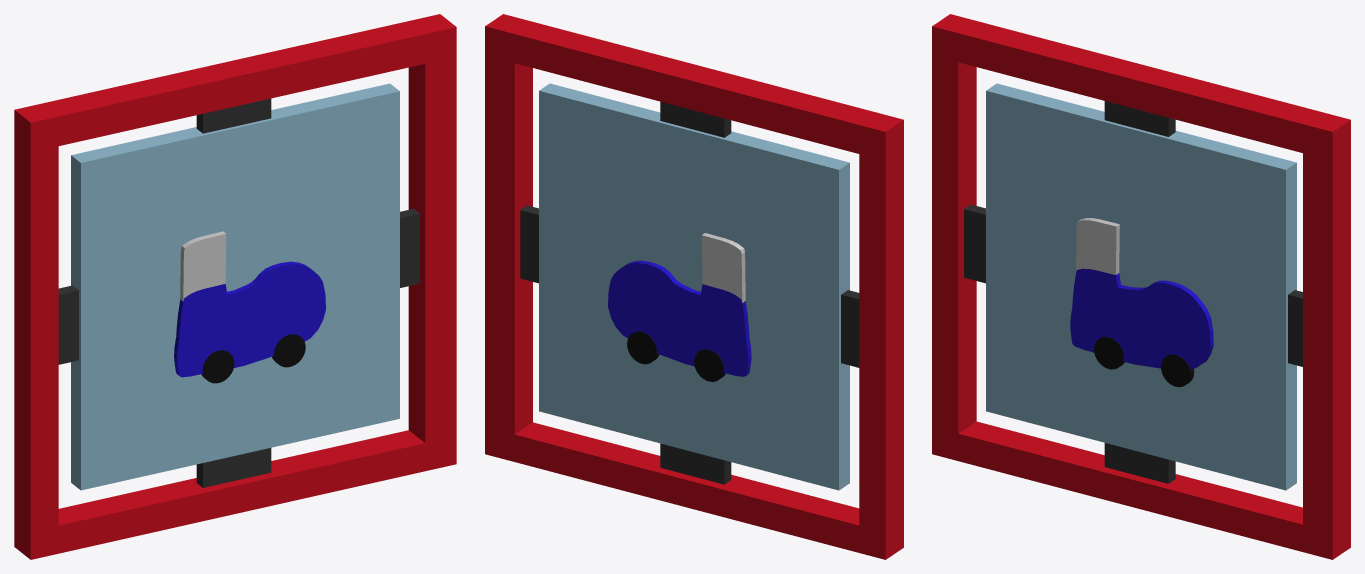
File: speedPowUp.obj
3 renders of one model, left to right at view 1: azimuth 30°, elevation 25°; view 2: azimuth 150°, elevation 25°; view 3: azimuth 330°, elevation 25°, orthographic. The views are drawn at different scales.
Visible parts, largest first — view 1: Middle_Cube.005, Outer_Ring_Cube.003, Cylinder, SideBars_Cube.006, Cylinder.001; view 2: Middle_Cube.005, Outer_Ring_Cube.003, Cylinder, SideBars_Cube.006, Cylinder.001; view 3: Middle_Cube.005, Outer_Ring_Cube.003, Cylinder, SideBars_Cube.006, Cylinder.001.
Boxes of the visible parts, x1,y1,x2,y2 form: Middle_Cube.005: (71,83,399,490); Outer_Ring_Cube.003: (14,14,456,559); Cylinder: (174,231,325,377); SideBars_Cube.006: (58,98,419,487); Cylinder.001: (201,334,305,383); Middle_Cube.005: (539,83,849,490); Outer_Ring_Cube.003: (485,14,903,559); Cylinder: (608,233,751,376); SideBars_Cube.006: (520,101,859,484); Cylinder.001: (627,331,725,381); Middle_Cube.005: (986,83,1296,490); Outer_Ring_Cube.003: (932,14,1350,559); Cylinder: (1070,218,1213,368); SideBars_Cube.006: (964,101,1302,483); Cylinder.001: (1094,337,1194,387).
Size of the model in its own units: 2 by 2 by 0.2144.
